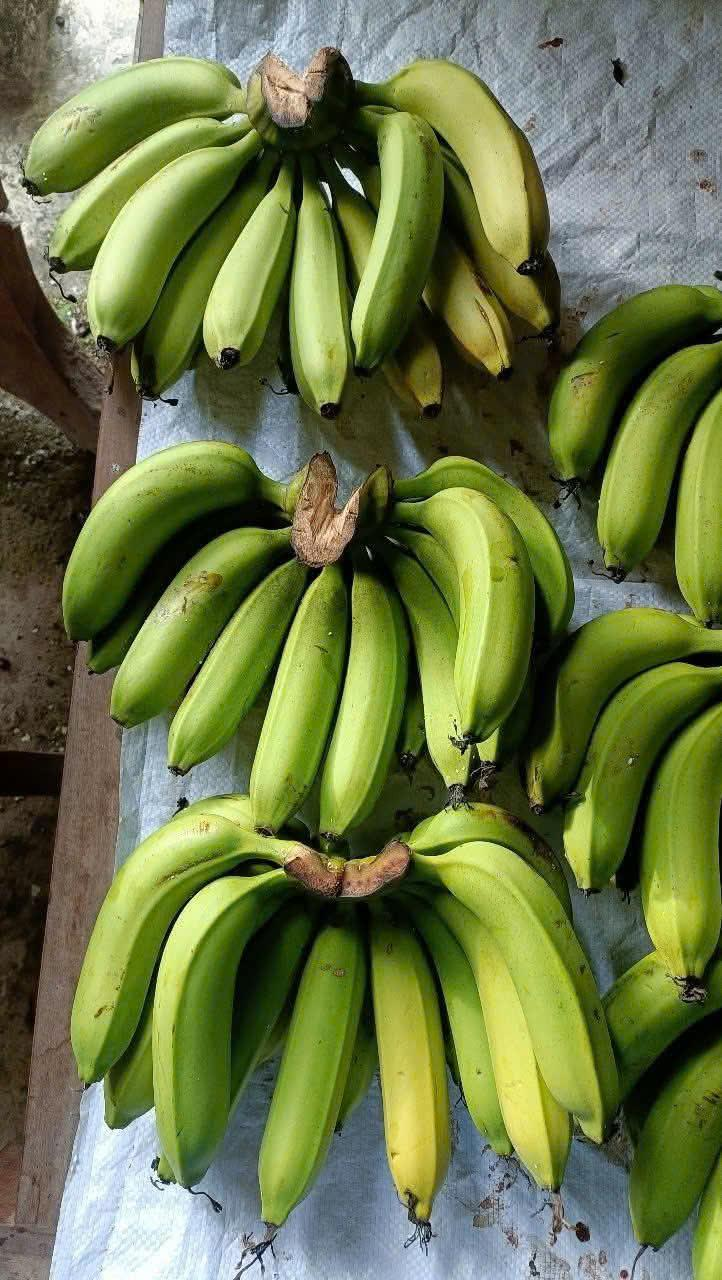banana: (37, 417, 360, 852), (63, 797, 335, 1232), (0, 23, 315, 385), (347, 820, 637, 1205), (297, 60, 610, 407), (340, 463, 575, 795), (532, 593, 722, 990), (593, 246, 722, 603)
